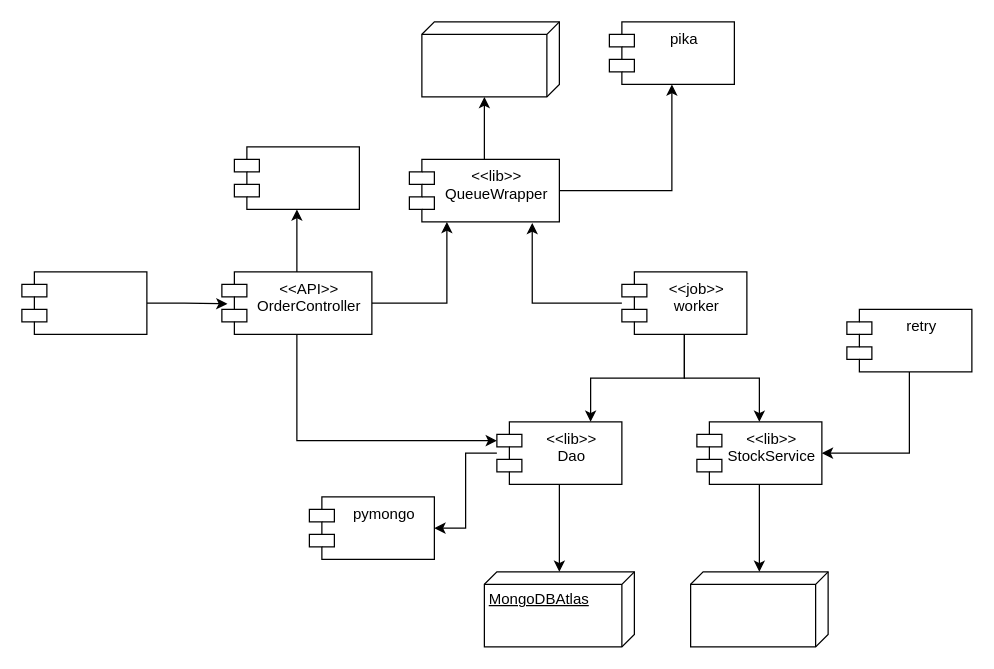
Image size: 994x669. Some labels were removed from this diagram. Each missing label, with the centre of its shape:
"CloudAMQP" goes at [490,59].
"Flask" goes at [296,177].
"Postman" goes at [84,302].
"StockService" goes at [758,609].
